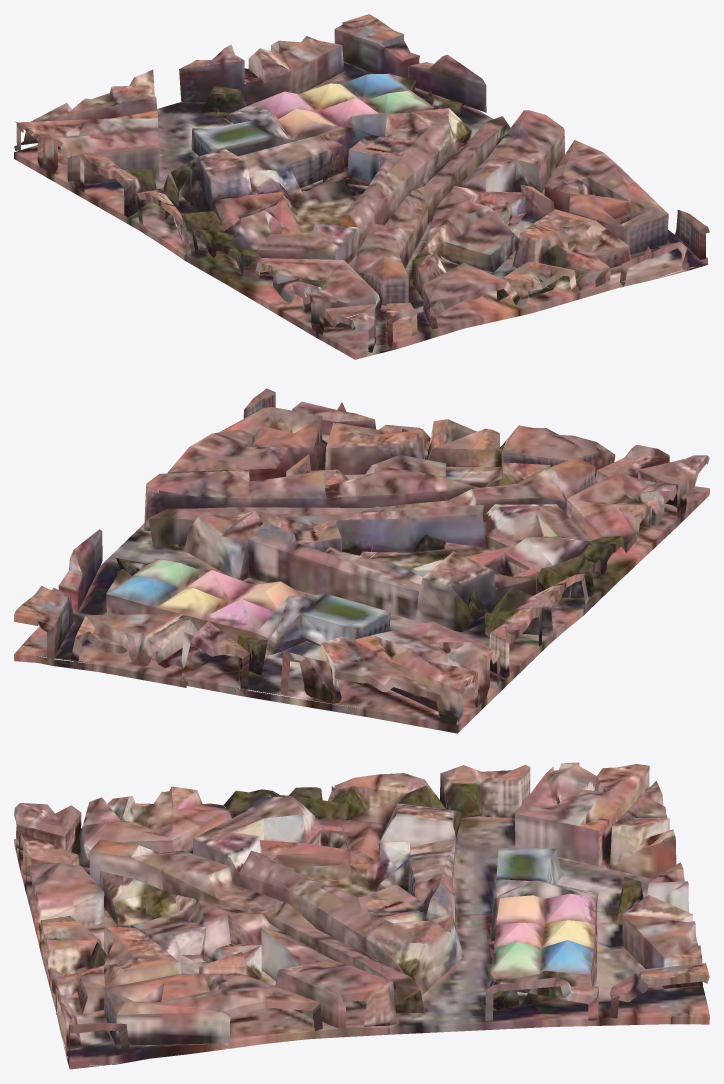
3 renders of one model, top to bottom at view 1: azimuth 30°, elevation 25°; view 2: azimuth 150°, elevation 25°; view 3: azimuth 270°, elevation 25°, orthographic. The views are drawn at different scales.
Visible parts, largest first — view 1: Mesh_0; view 2: Mesh_0; view 3: Mesh_0.
Part boxes in pixels (box(x1,y1,x2,y2)): Mesh_0: box(14, 14, 709, 359); Mesh_0: box(14, 388, 709, 733); Mesh_0: box(14, 762, 709, 1069).
Size of the model in its own units: 267 by 43.26 by 330.
Materials: 2 (2 with a texture image).
